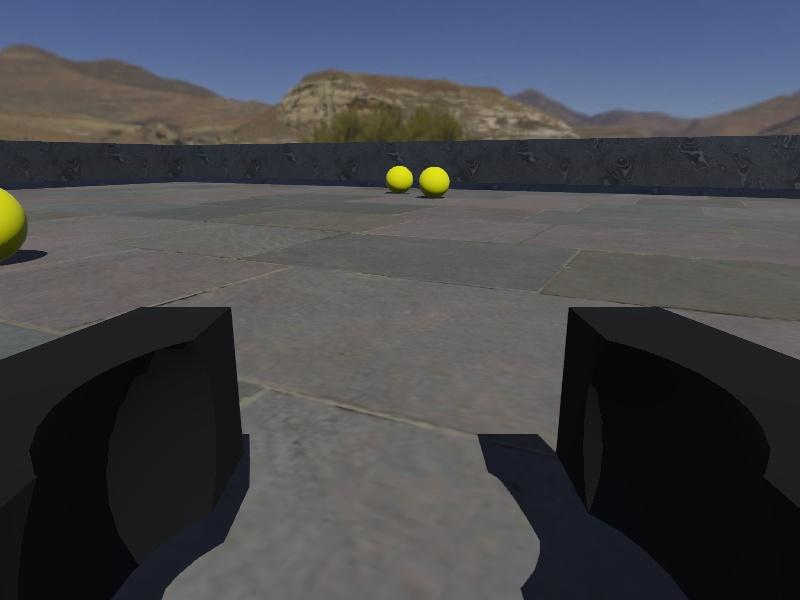yellow ball: (418, 166, 452, 198), (387, 165, 415, 192)
